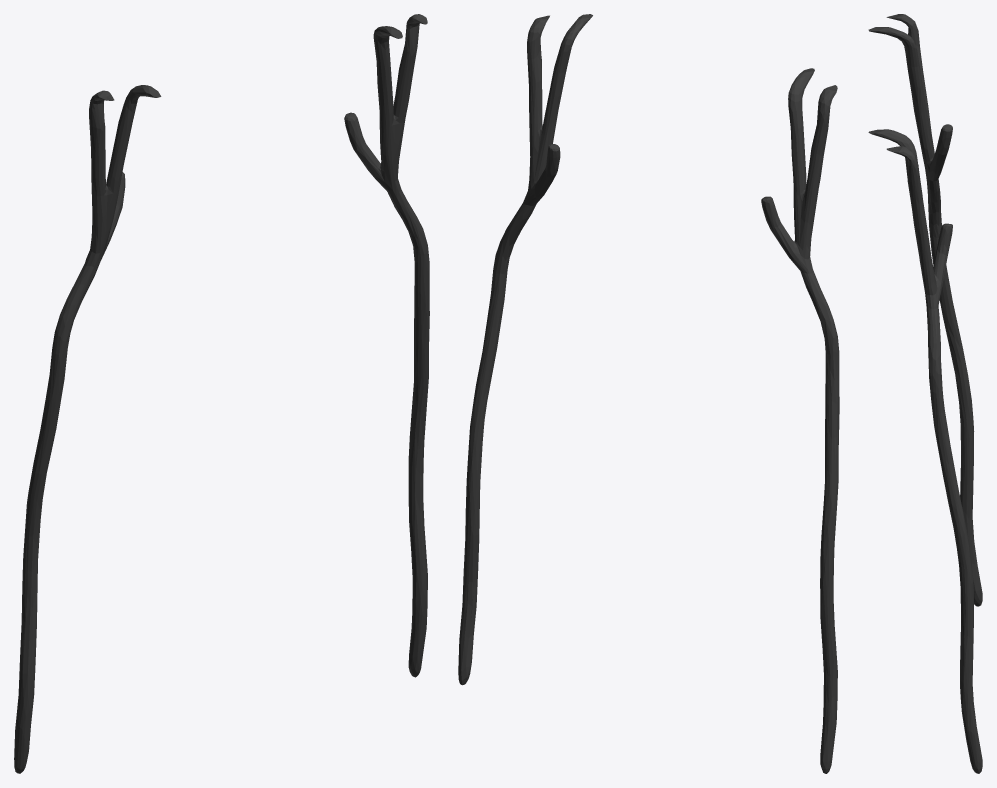
File: m_extensor_digit_I_et_II.glb
The picture shows the model from 3 angles, left to right: view 1: azimuth 30°, elevation 25°; view 2: azimuth 150°, elevation 25°; view 3: azimuth 270°, elevation 25°; orthographic projection. The views are drawn at different scales.
Parts seen in each view (by area): view 1: m_extensor_digit_I_et_II; view 2: m_extensor_digit_I_et_II; view 3: m_extensor_digit_I_et_II.
Part boxes in pixels (x1,y1,x2,y2): m_extensor_digit_I_et_II: [14, 14, 429, 773]; m_extensor_digit_I_et_II: [458, 14, 839, 773]; m_extensor_digit_I_et_II: [868, 14, 982, 773].
Bounding box in the file's own units: 0.00399 × 0.00659 × 0.00112.
Materials: 1 (1 with a texture image).
